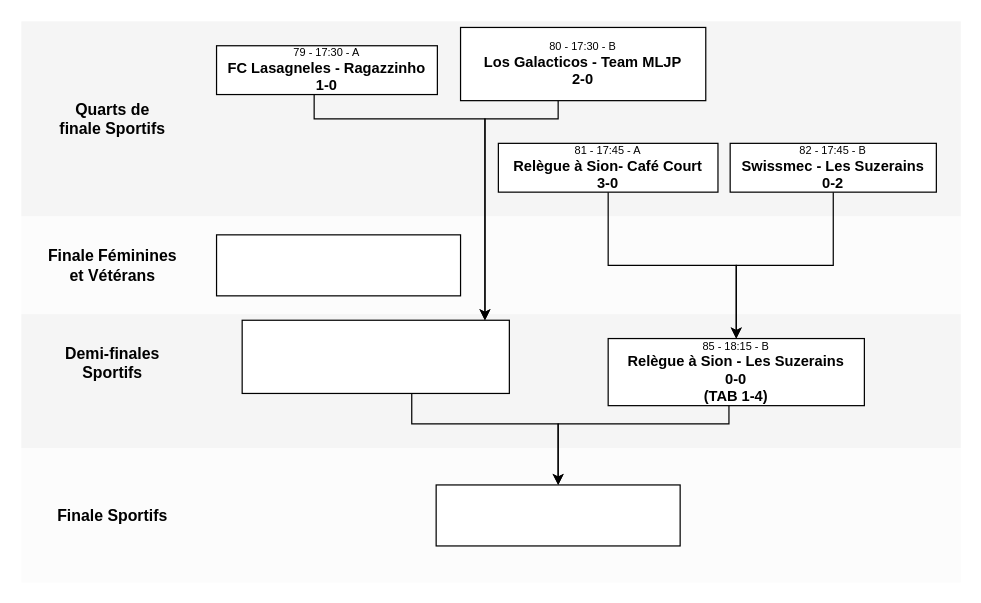
Image size: 981x603. Some labels were removed from this diagram. The shapes that lost their labels are listed below. From the top down, each one's centre as x and y in pixels, then its label:
point 338,265: 83 - 18:00 - B Daddy Cool - Les Olives 0-1
point 375,356: A-18:15 FC Lasagneles - Los Galacticos 0-4
point 557,515: 86 - 18:45 - B Los Galacticos - Les Suzerains 0-2
